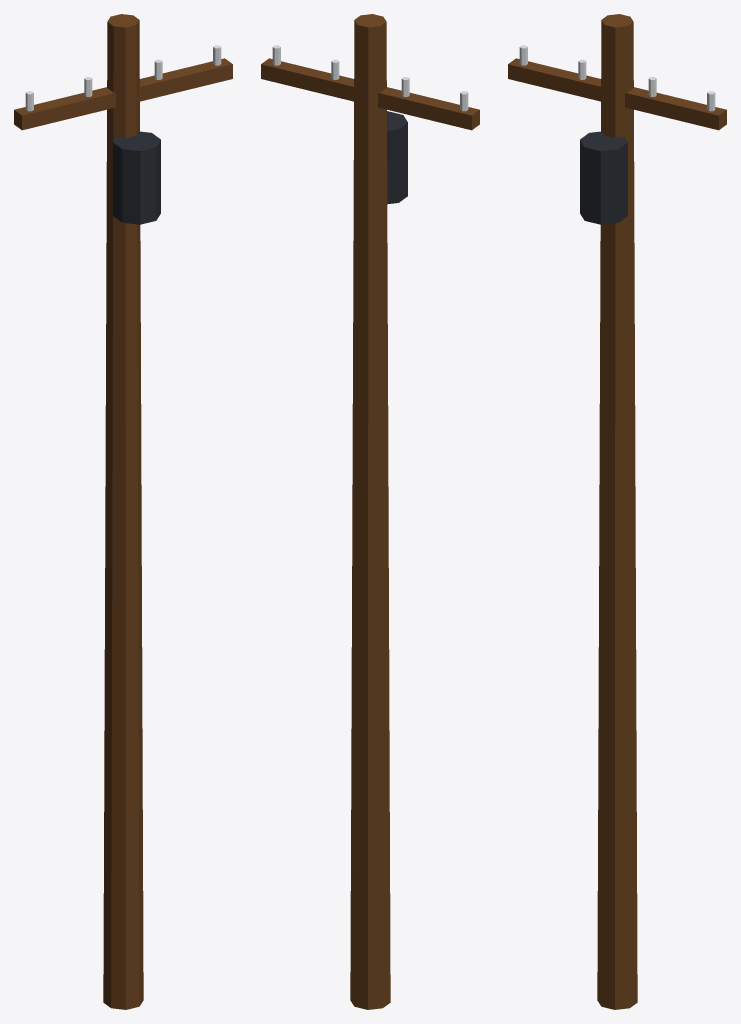
Rendered from power_pole.glb.
3 renders of one model, left to right at view 1: azimuth 30°, elevation 25°; view 2: azimuth 150°, elevation 25°; view 3: azimuth 330°, elevation 25°, orthographic.
Visible parts, largest first — view 1: power_pole; view 2: power_pole; view 3: power_pole.
Part boxes in pixels (box(x1,y1,x2,y2)): power_pole: box(14, 14, 232, 1009); power_pole: box(261, 14, 479, 1009); power_pole: box(508, 14, 726, 1009).
Bounding box in the file's own units: 1.8 × 8 × 0.5049.
